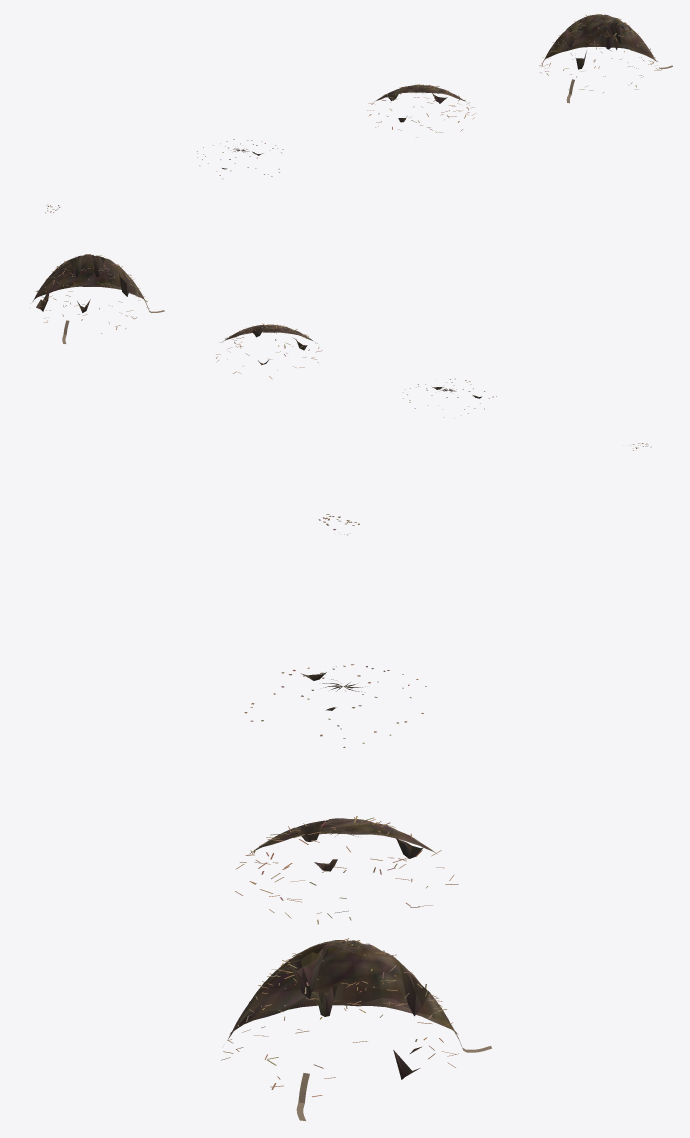
Rendered from stadi.glb.
3 views of the same model, one above another, from view 1: azimuth 30°, elevation 25°; view 2: azimuth 150°, elevation 25°; view 3: azimuth 270°, elevation 25° (orthographic). The views are drawn at different scales.
Visible parts, largest first — view 1: stage_4_soil, stage_3_soil, stage_4_litter; view 2: stage_4_soil, stage_3_soil, stage_4_litter; view 3: stage_4_soil, stage_3_soil, stage_4_litter, stage_3_litter.
Boxes of the visible parts, <box> form: stage_4_soil: <box>543,14,656,69</box>; stage_3_soil: <box>374,84,465,122</box>; stage_4_litter: <box>539,14,672,103</box>; stage_4_soil: <box>32,254,146,312</box>; stage_3_soil: <box>222,324,315,365</box>; stage_4_litter: <box>35,254,164,343</box>; stage_4_soil: <box>228,940,458,1079</box>; stage_3_soil: <box>249,818,437,871</box>; stage_4_litter: <box>221,938,491,1120</box>; stage_3_litter: <box>235,816,458,924</box>.
Size of the model in its own units: 2.16 by 0.1811 by 0.4398.
